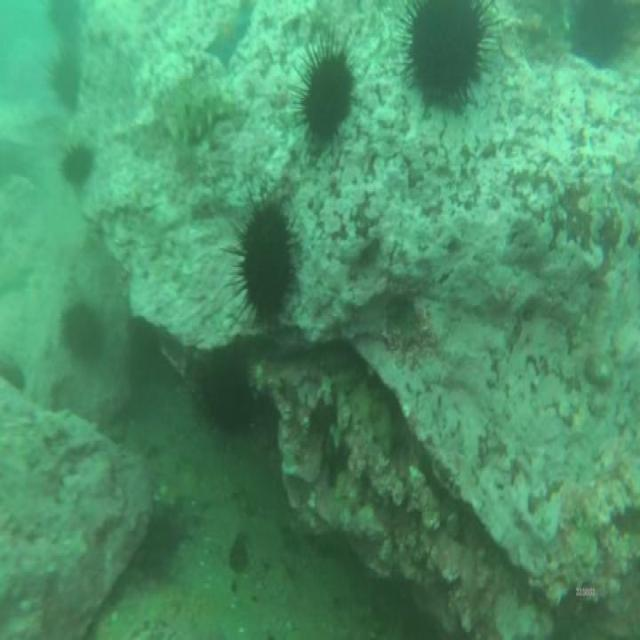echinus: (403, 0, 487, 115), (233, 195, 299, 322), (300, 41, 356, 157), (194, 349, 257, 444), (569, 0, 629, 74), (61, 300, 107, 367), (126, 314, 163, 392), (47, 49, 84, 117), (57, 137, 98, 196), (48, 0, 82, 46)
holothurian: (180, 87, 242, 155)
starfish: (202, 6, 252, 70)
